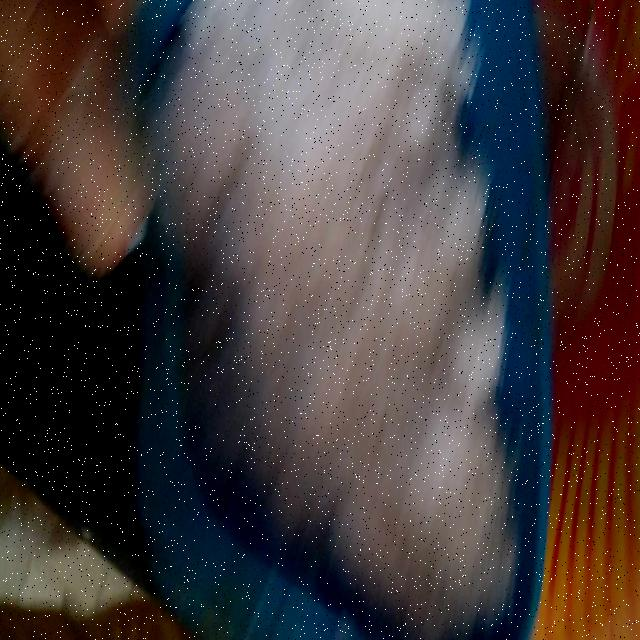Salt: (273, 74, 444, 468)
